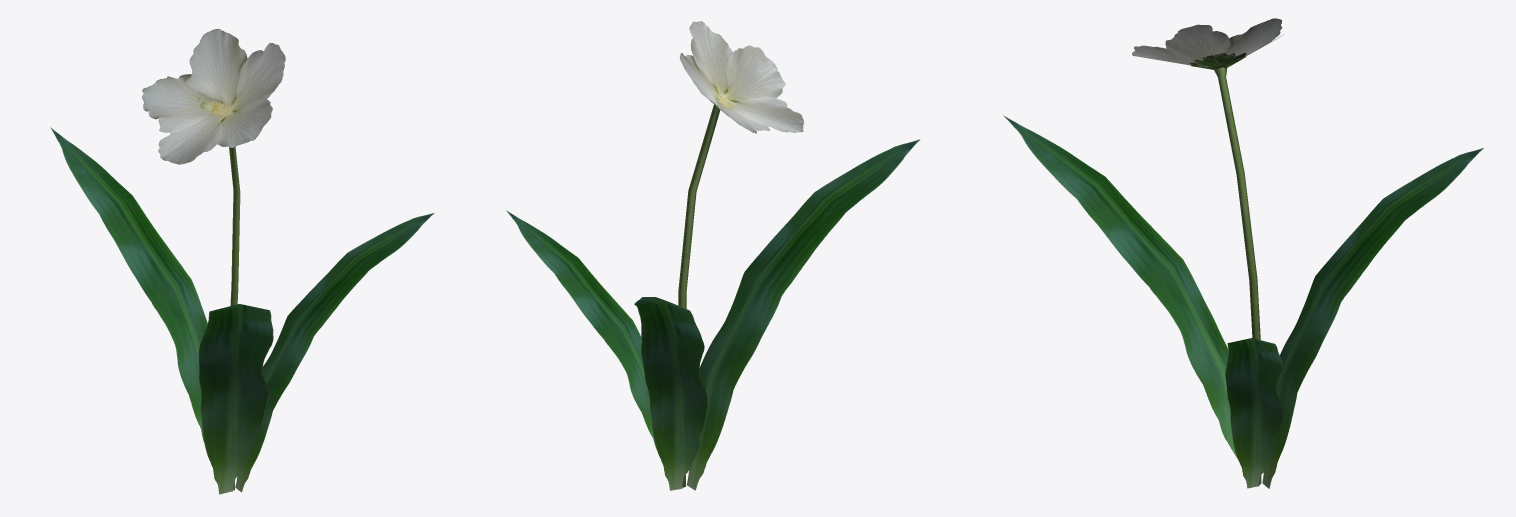
File: Flower_05.FBX
3 views of the same model, side by side, from view 1: azimuth 30°, elevation 25°; view 2: azimuth 150°, elevation 25°; view 3: azimuth 270°, elevation 25° (orthographic). The views are drawn at different scales.
Parts seen in each view (by area): view 1: Flower_05; view 2: Flower_05; view 3: Flower_05.
Boxes of the visible parts, box(x1,y1,x2,y2) form: Flower_05: box(50, 28, 434, 494); Flower_05: box(506, 21, 920, 490); Flower_05: box(1003, 18, 1483, 488).
Size of the model in its own units: 0.909 by 1.18 by 1.17.
